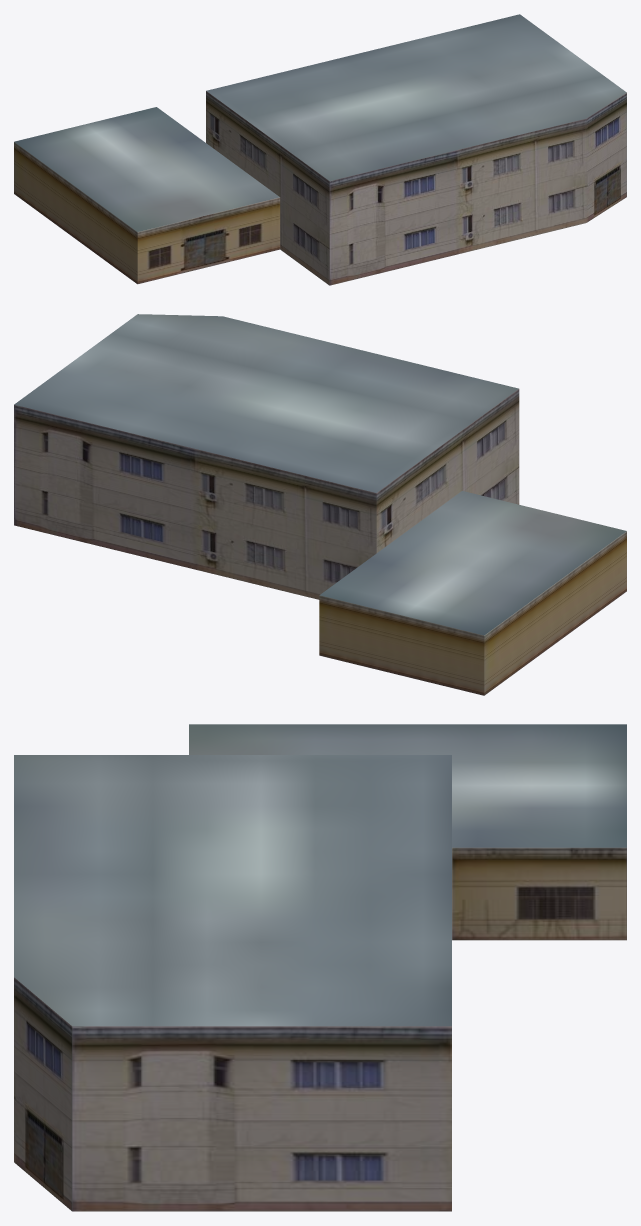
3 renders of one model, top to bottom at view 1: azimuth 30°, elevation 25°; view 2: azimuth 150°, elevation 25°; view 3: azimuth 270°, elevation 25°, orthographic. The views are drawn at different scales.
Parts seen in each view (by area): view 1: Model#18; view 2: Model#18; view 3: Model#18.
Boxes of the visible parts, bbox=[...] form: Model#18: bbox=[14, 14, 626, 285]; Model#18: bbox=[14, 314, 626, 695]; Model#18: bbox=[14, 724, 626, 1211].
Size of the model in its own units: 0.032 by 0.007 by 0.021.
2 materials, 2 textured.
